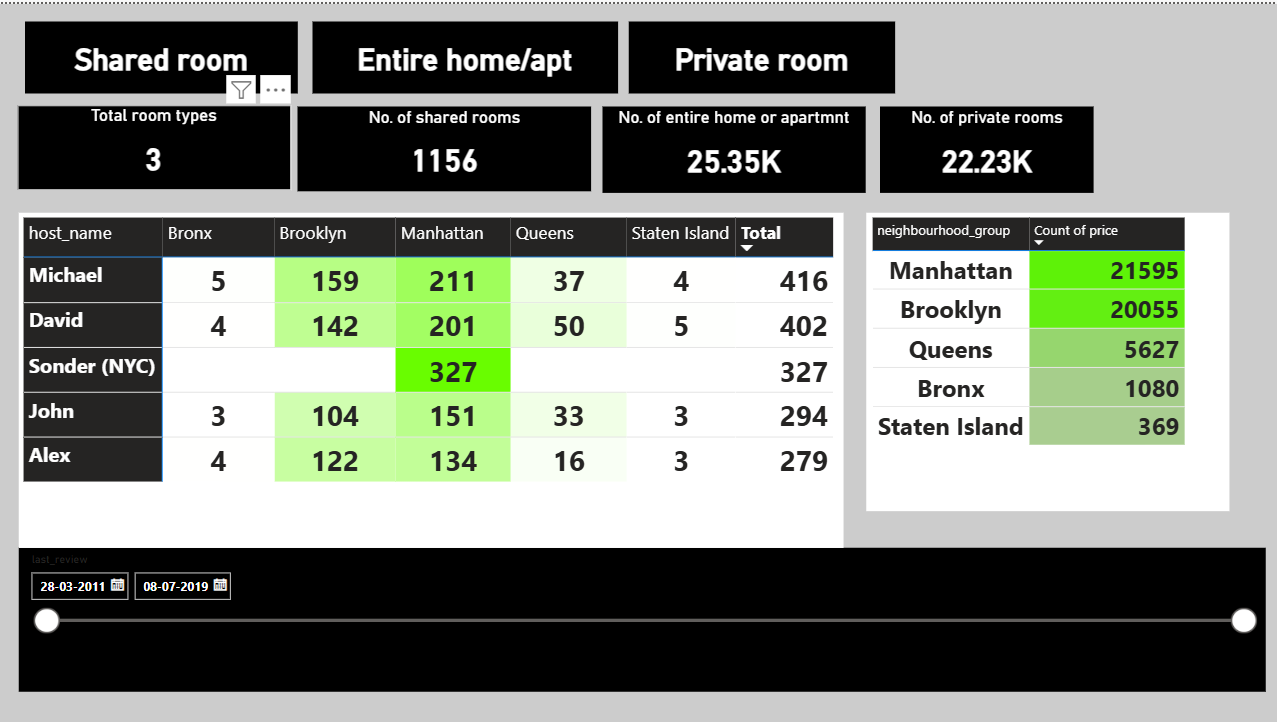

This screenshot's page, from the dashboard's own definition file:
{"tool":"powerbi","page":{"name":"Analysis","canvas":[1280,720],"ordinal":1},"visuals":[{"type":"card","fields":{"Values":["Min(AB_NYC_2019.room_type)"]},"box":[24.5,18,272.7,71.9],"z":0},{"type":"card","fields":{"Values":["Min(AB_NYC_2019.room_type)"]},"box":[311.9,18,305.4,71.9],"z":1000},{"type":"card","fields":{"Values":["Min(AB_NYC_2019.room_type)"]},"box":[628.7,18,266.2,71.9],"z":2000},{"type":"card","title":"Total room types","fields":{"Values":["Count(AB_NYC_2019.room_type)"]},"box":[18,101.3,272.7,84.9],"z":3000},{"type":"card","title":"No. of shared rooms","fields":{"Values":["CountNonNull(AB_NYC_2019.room_type)"]},"box":[297.2,102.9,294,84.9],"z":4000},{"type":"card","title":"No. of entire home or apartmnt","fields":{"Values":["CountNonNull(AB_NYC_2019.room_type)"]},"box":[602.6,102.9,262.9,86.6],"z":5000},{"type":"card","title":"No. of private rooms","fields":{"Values":["CountNonNull(AB_NYC_2019.room_type)"]},"box":[880.2,102.9,213.9,86.6],"z":6000},{"type":"slicer","fields":{"Values":["AB_NYC_2019.last_review"]},"box":[18.3,543.3,1246.7,143.3],"z":7000},{"type":"tableEx","fields":{"Values":["AB_NYC_2019.neighbourhood_group","CountNonNull(AB_NYC_2019.price)"]},"box":[866.7,208.3,363.3,298.3],"z":8000},{"type":"pivotTable","fields":{"Rows":["AB_NYC_2019.host_name"],"Columns":["AB_NYC_2019.neighbourhood_group"],"Values":["CountNonNull(AB_NYC_2019.calculated_host_listings_count)"]},"box":[18.3,208.3,825,335],"z":9000}]}

Visuals, with their boxes in screenshot pixels (x1, y1, x2, y2), scaled from the page's 1280x720 canvas onto the 1277x722 screenshot:
card - Min(AB_NYC_2019.room_type): (x1=24, y1=18, x2=297, y2=90)
card - Min(AB_NYC_2019.room_type): (x1=311, y1=18, x2=616, y2=90)
card - Min(AB_NYC_2019.room_type): (x1=627, y1=18, x2=893, y2=90)
"Total room types" card: (x1=18, y1=102, x2=290, y2=187)
"No. of shared rooms" card: (x1=297, y1=103, x2=590, y2=188)
"No. of entire home or apartmnt" card: (x1=601, y1=103, x2=863, y2=190)
"No. of private rooms" card: (x1=878, y1=103, x2=1092, y2=190)
slicer - AB_NYC_2019.last_review: (x1=18, y1=545, x2=1262, y2=689)
tableEx - AB_NYC_2019.neighbourhood_group x CountNonNull(AB_NYC_2019.price): (x1=865, y1=209, x2=1227, y2=508)
pivotTable - AB_NYC_2019.host_name x AB_NYC_2019.neighbourhood_group: (x1=18, y1=209, x2=841, y2=545)
